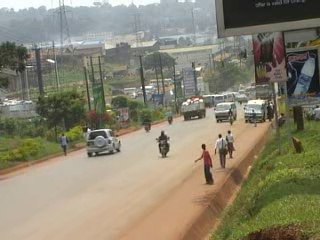Car: (82, 128, 121, 158), (235, 92, 247, 103)
Motorcycle: (153, 131, 170, 158), (140, 113, 152, 132), (226, 108, 237, 126), (164, 110, 173, 126)
